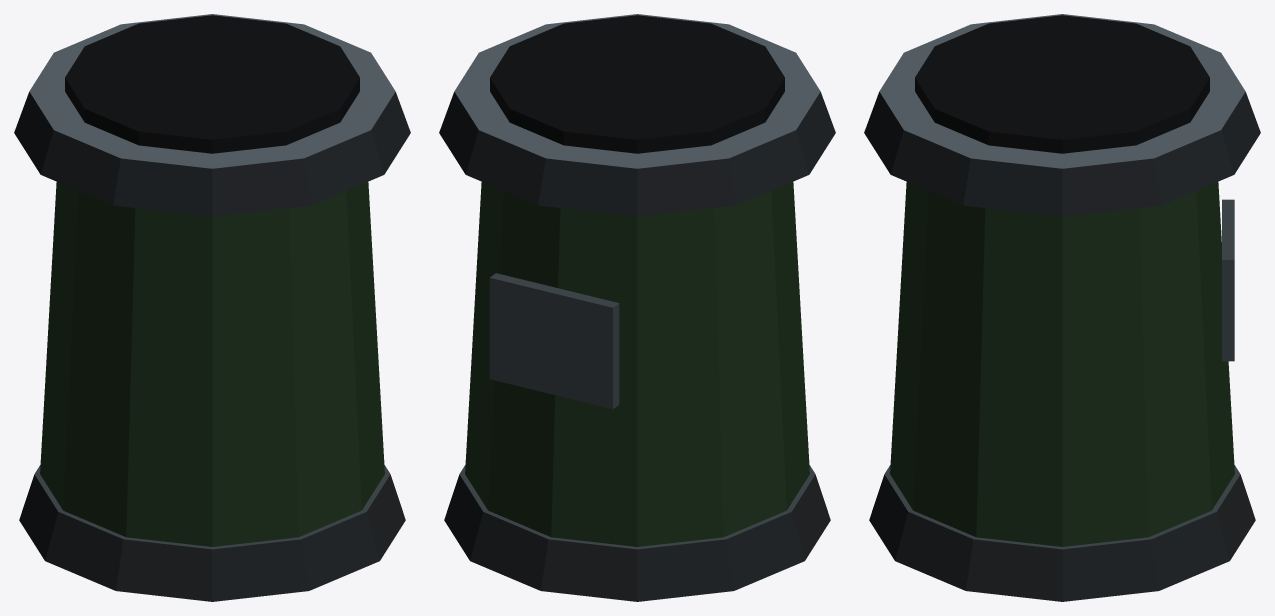
File: lp_street_bin.glb
3 views of the same model, side by side, from view 1: azimuth 30°, elevation 25°; view 2: azimuth 150°, elevation 25°; view 3: azimuth 270°, elevation 25° (orthographic).
Visible parts, largest first — view 1: lp_street_bin; view 2: lp_street_bin; view 3: lp_street_bin.
Boxes of the visible parts, x1,y1,x2,y2 form: lp_street_bin: (14,14,410,601); lp_street_bin: (439,14,835,601); lp_street_bin: (864,14,1260,601).
Bounding box in the file's own units: 0.78 × 0.96 × 0.78.
1 material, 1 textured.
